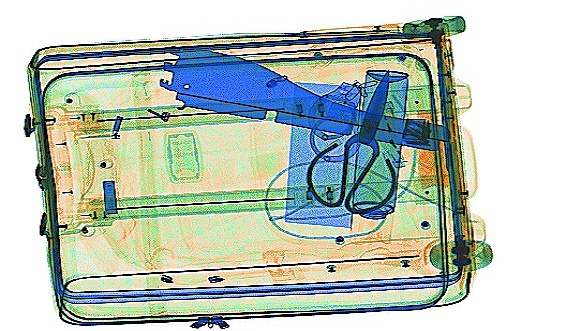handcuffs: (307, 79, 368, 162)
lighter: (380, 97, 412, 159), (375, 110, 406, 168)
pressure: (348, 67, 408, 245)
scissors: (304, 69, 397, 214)
